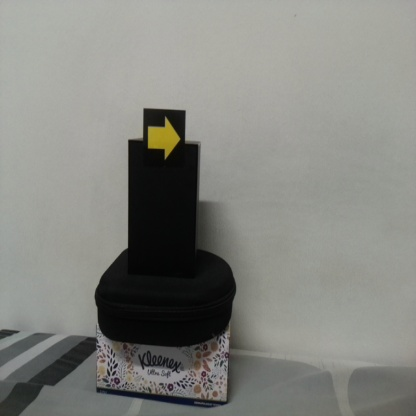id_3: (143, 110, 186, 170)
